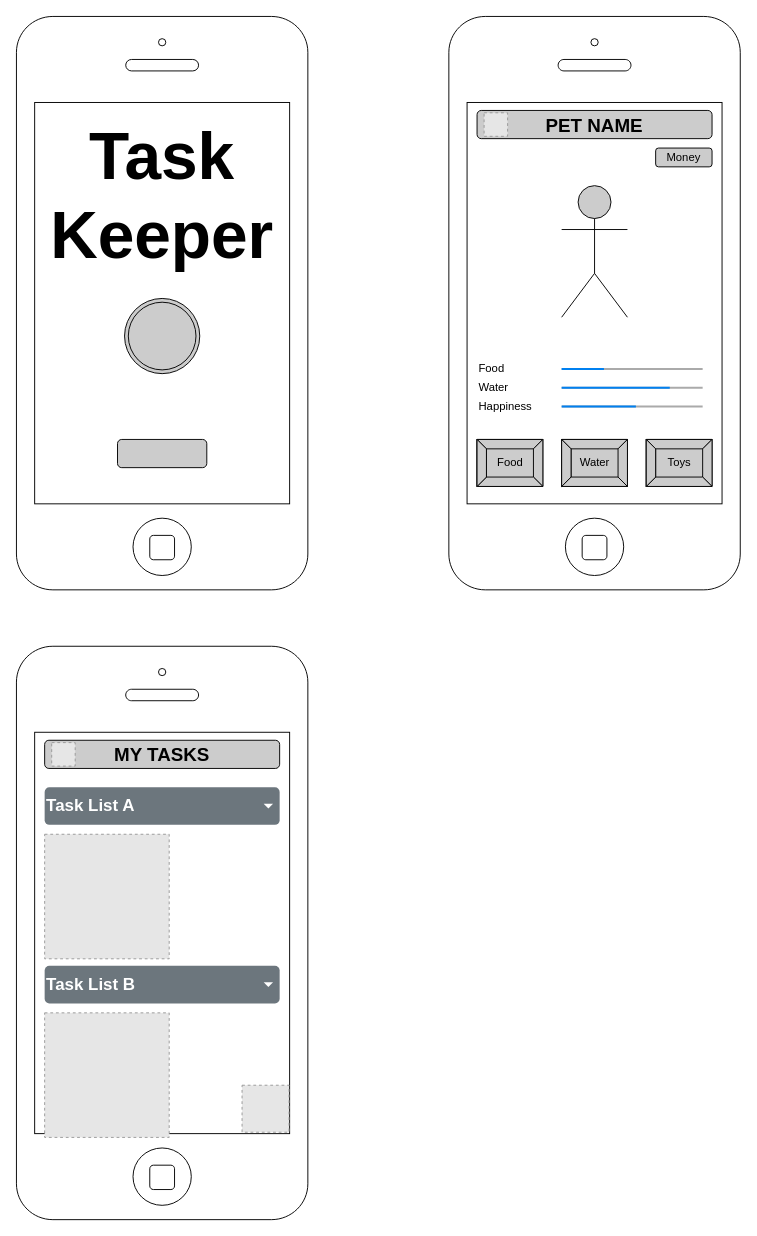
Some shapes in this 757 by 1236 pixel diagram are drawn without their labels. Grey dashed boxes stand in for pictures. The box of each missing label's shape, as (x1, y1, x2, y2) in pixels:
Login: (117, 439, 207, 468)
Logo: (124, 298, 200, 374)
Pet: (561, 185, 627, 317)
